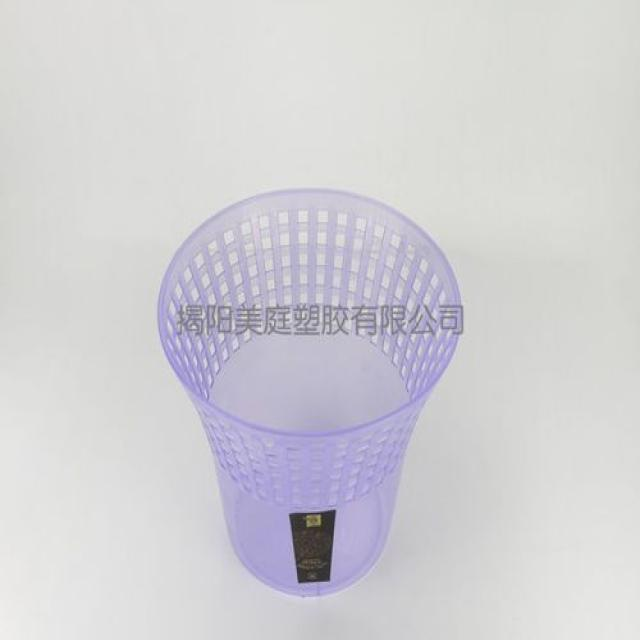dustbin: (153, 180, 466, 594)
